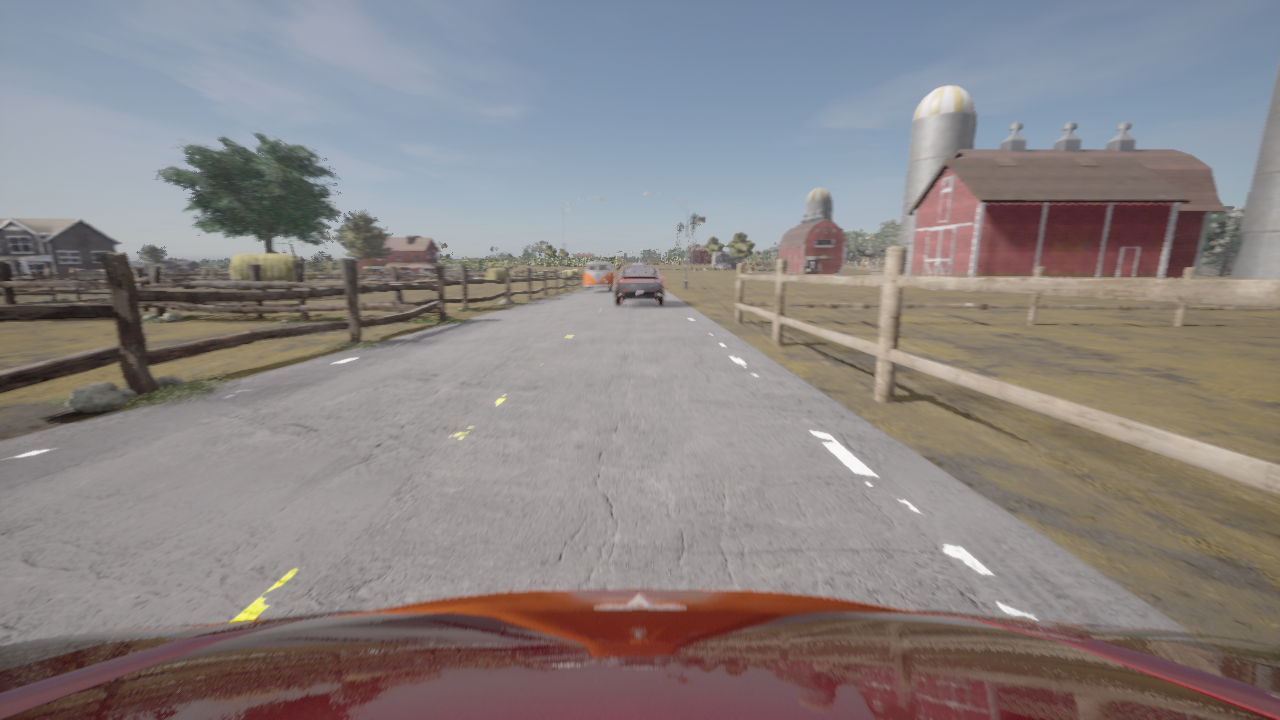cyclist: (0, 588, 1279, 719), (614, 266, 665, 305), (583, 262, 613, 291)
